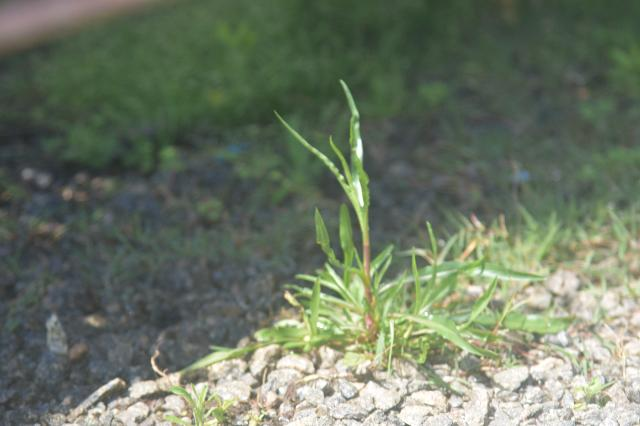MalezaMontesDelPlata: (259, 88, 573, 375)
